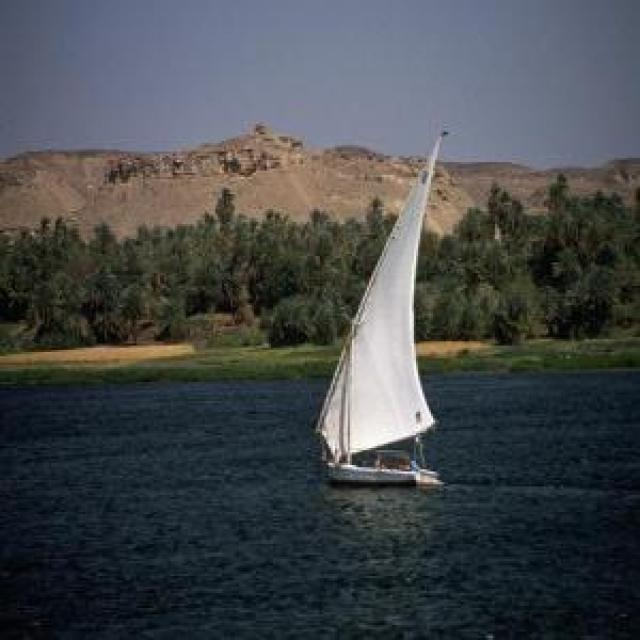sailboat: (306, 126, 456, 490)
